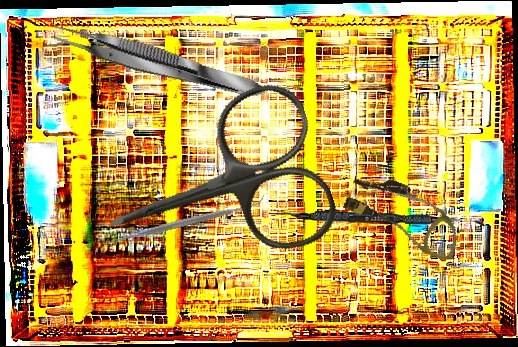Cannula: (337, 167, 471, 263)
Iris Scissors: (83, 74, 345, 302)
Spatula Surgical: (103, 193, 268, 251), (268, 210, 485, 226)
Tissue Forceps: (46, 16, 269, 108)
